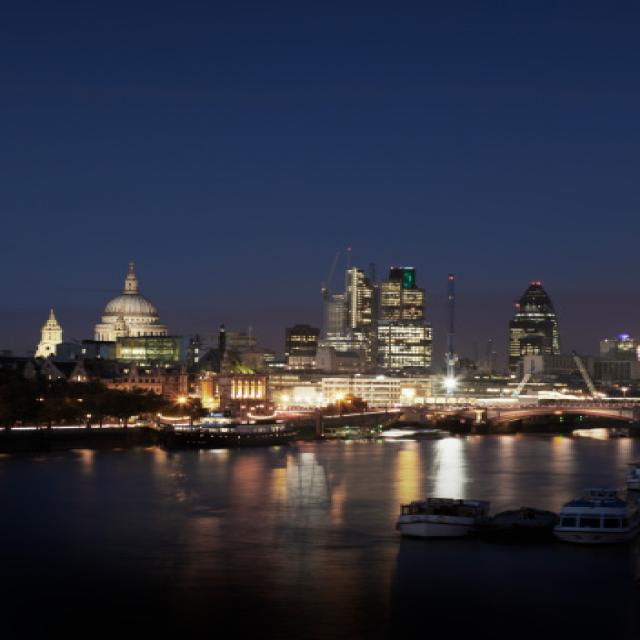Boat: (527, 472, 640, 580), (355, 463, 479, 561), (479, 485, 548, 562)
